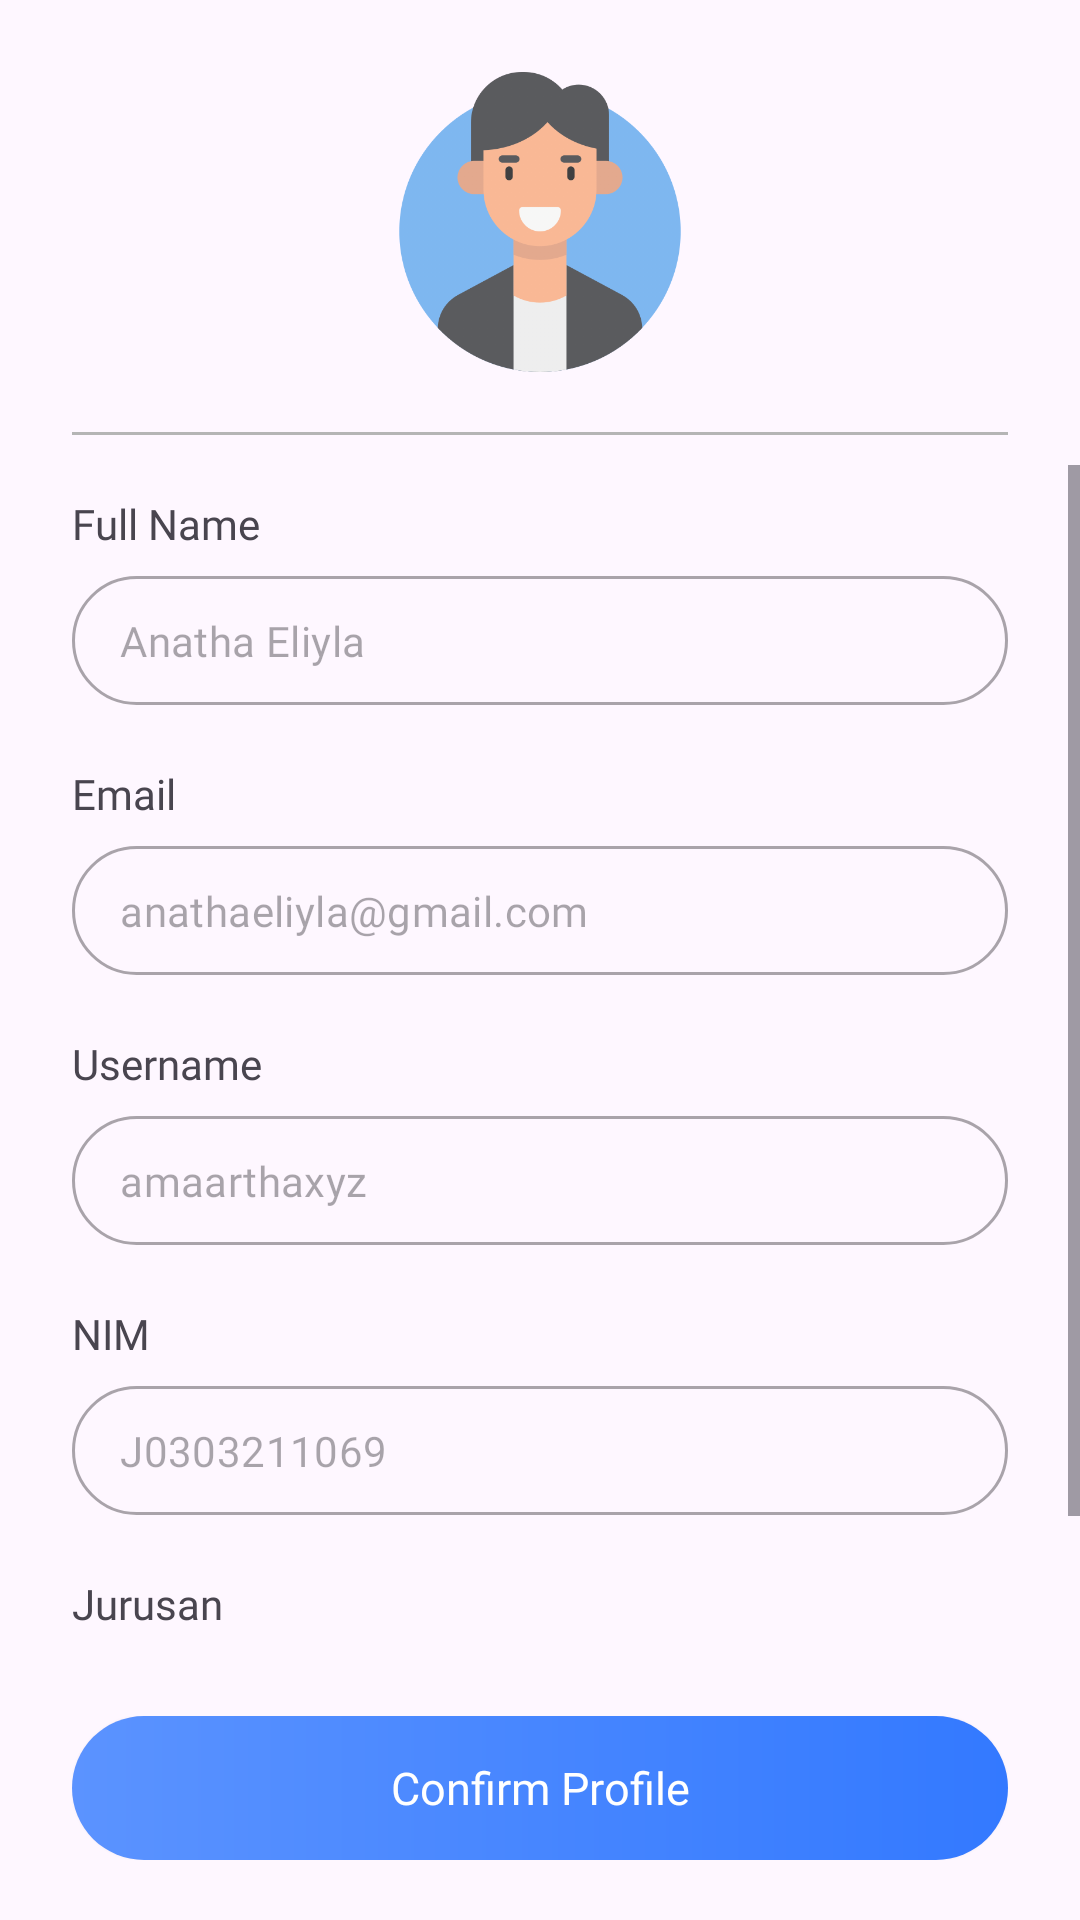

Point at icon controls on the screen. Image size 1080×1920, points as (x,y).
profile: (540,222)
